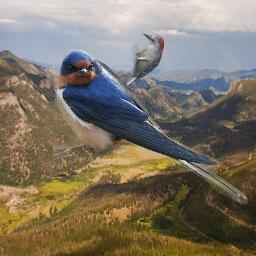Swallow: (53, 49, 248, 204)
Woodpecker: (125, 33, 164, 86)
